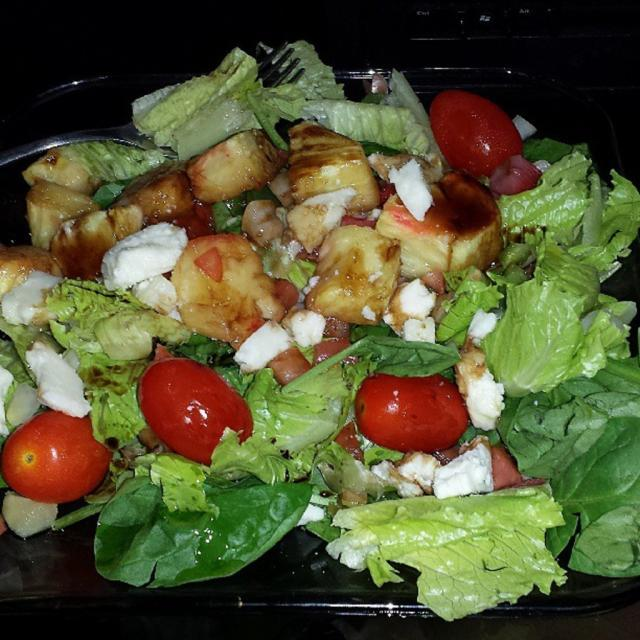Tomato: (136, 350, 254, 474), (0, 403, 113, 505), (427, 95, 525, 197), (357, 368, 471, 453)
